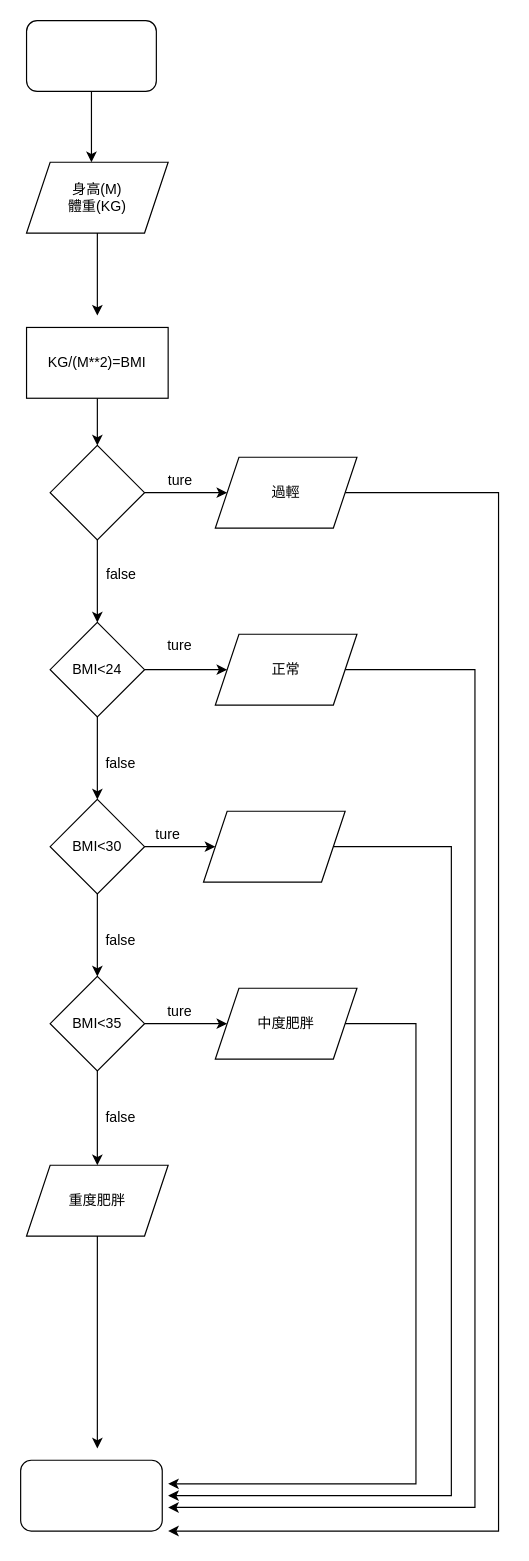
The diagram is 529 pixels wide and 1561 high, and some of its shapes have lost their labels. Here are the shapes that lost their labels. From the top down, the centre of each, then its label:
At point 90,55: "start".
At point 97,492: "BMI<18.5".
At point 273,846: "輕度肥胖".
At point 90,1495: "end".
